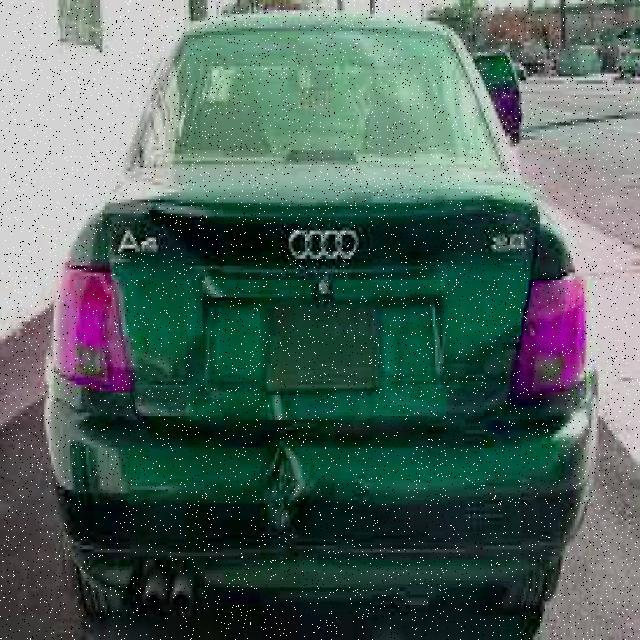car damage: (258, 410, 316, 541)
